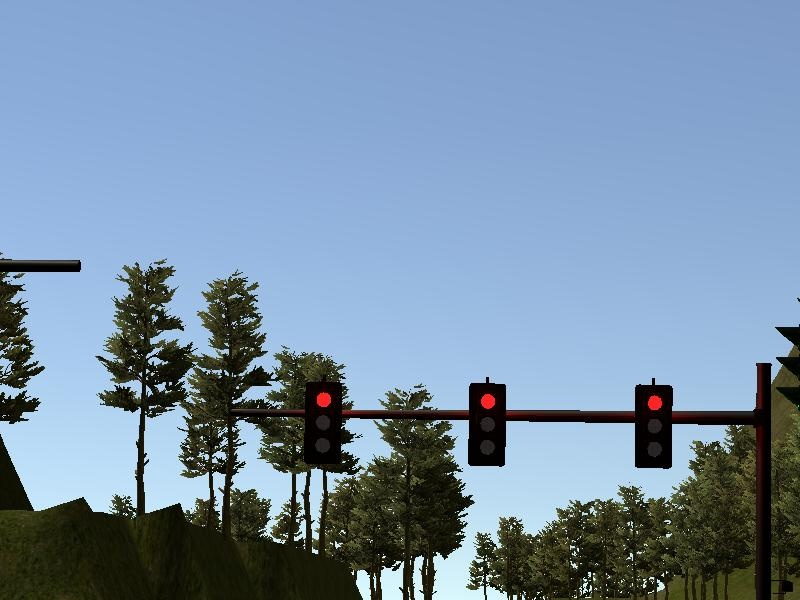red: (465, 380, 508, 469), (633, 382, 675, 470), (301, 383, 343, 466)
